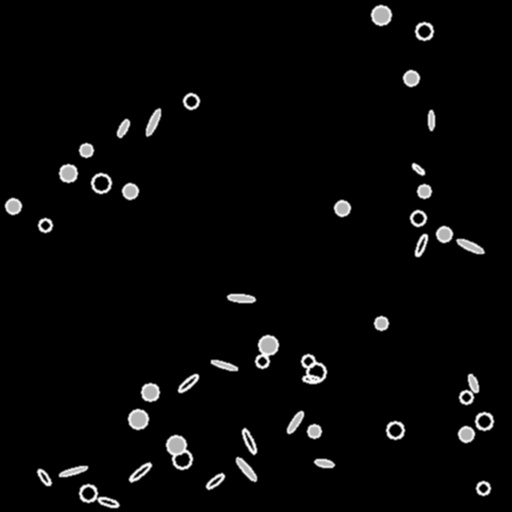pseudomonas: (235, 456, 257, 482), (128, 461, 152, 483), (144, 108, 162, 136), (456, 237, 484, 255), (240, 427, 258, 455), (177, 373, 199, 393), (286, 410, 304, 434), (205, 472, 225, 490), (414, 233, 428, 257), (59, 465, 87, 477), (211, 359, 237, 371), (36, 468, 52, 486), (97, 496, 119, 508), (116, 119, 130, 137), (227, 294, 255, 302), (467, 374, 479, 392), (314, 458, 334, 468), (411, 162, 425, 176), (302, 375, 320, 383), (428, 110, 434, 130)
synechocystis: (173, 450, 191, 468), (259, 336, 277, 354), (307, 363, 325, 381), (129, 410, 147, 428), (167, 436, 185, 454), (92, 174, 110, 192), (372, 6, 390, 24), (476, 413, 492, 429), (387, 422, 403, 438), (416, 23, 432, 39), (60, 165, 76, 181), (80, 485, 96, 501), (142, 384, 158, 400), (123, 184, 137, 198), (6, 199, 20, 213), (184, 94, 198, 108), (335, 201, 349, 215), (404, 71, 418, 85), (437, 227, 451, 241), (459, 427, 473, 441), (411, 211, 425, 225), (308, 425, 320, 437), (460, 391, 472, 403), (302, 355, 314, 367), (477, 482, 489, 494), (39, 219, 51, 231), (375, 317, 387, 329), (256, 355, 268, 367), (80, 144, 92, 156), (418, 185, 430, 197)
